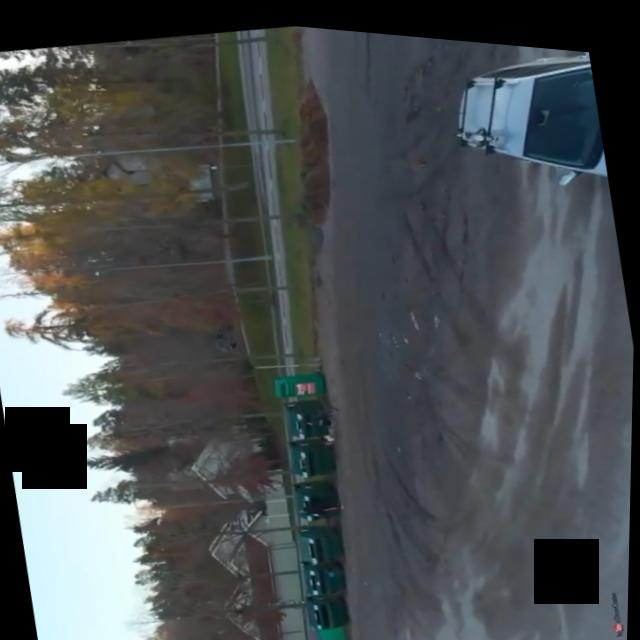Vehicle: (421, 30, 611, 202)
